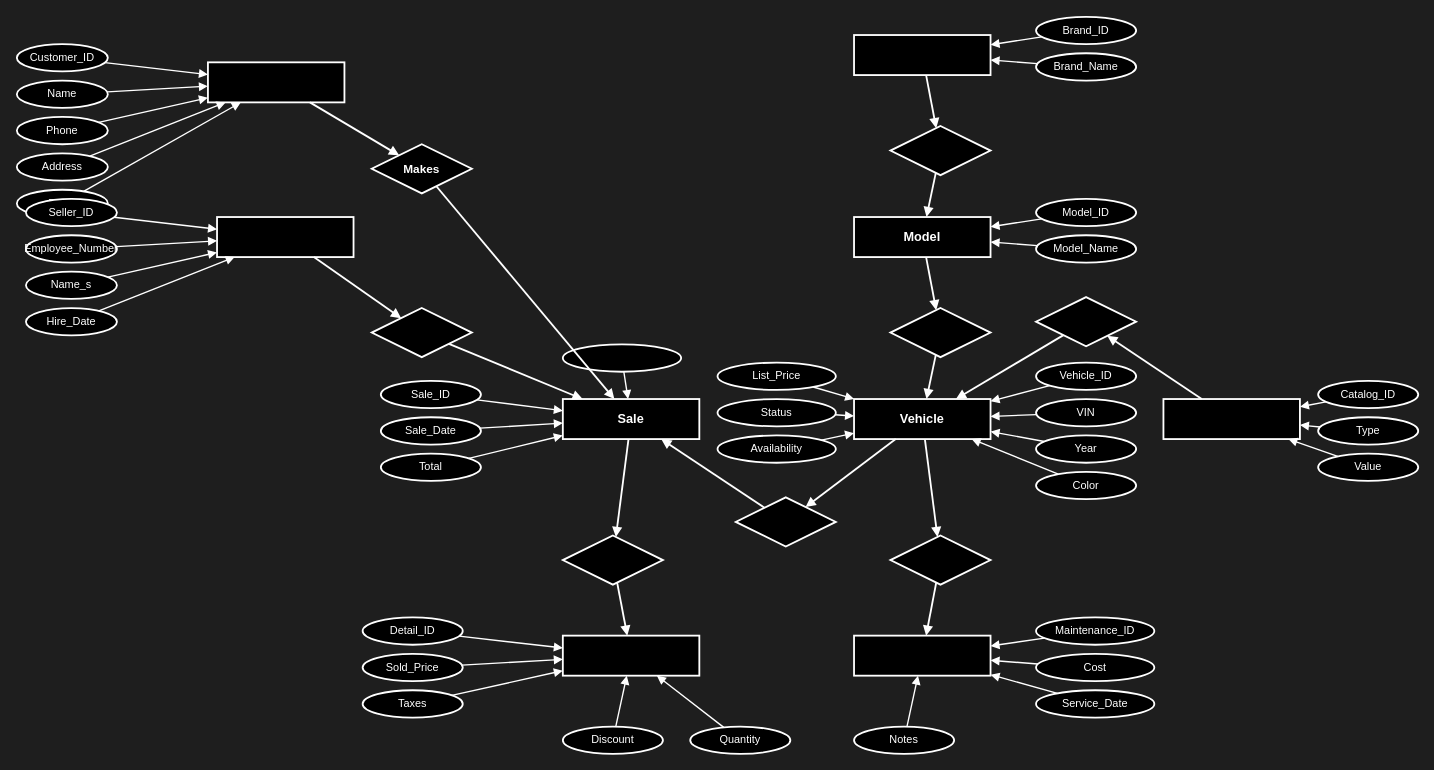
Image size: 1434x770. Some labels were removed from this diagram. Here are the shapes that lost their labels. From the top down, the centre of each, then its label:
At (x=922, y=55): "Brand".
At (x=276, y=82): "Customer".
At (x=940, y=150): "Belongs_To".
At (x=285, y=237): "Seller".
At (x=421, y=332): "Assists".
At (x=940, y=332): "Is_Model".
At (x=1086, y=321): "Classifies".
At (x=621, y=357): "Comments".
At (x=1231, y=419): "Catalog".
At (x=785, y=521): "Includes".
At (x=612, y=559): "Generates".
At (x=940, y=559): "Receives".
At (x=630, y=655): "Sale_Detail".
At (x=922, y=655): "Maintenance".
